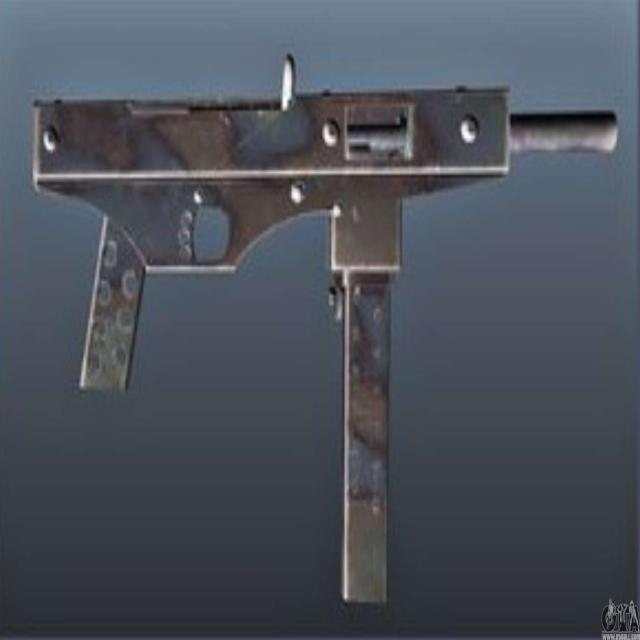Weapon: (32, 55, 618, 603)
